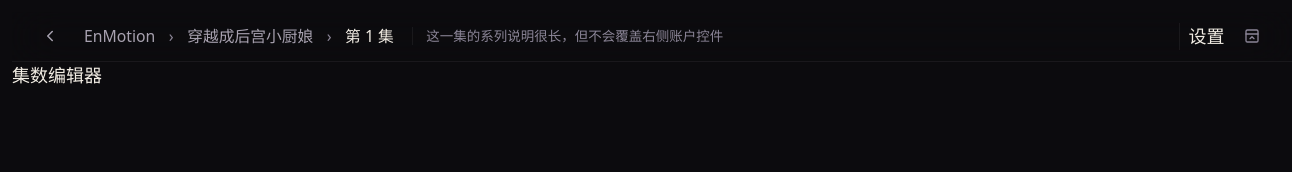
Scenario: AuthenticatedViewport › provides the same collapsible editor navigation in desktop mode
The image size is (1292, 172).
Expected: the link "穿越成后宫小厨娘" is shown, [180,20,320,52]
What coordinates should you click on to do the following:
click the button named "收起工作区导航"
I would click on:
 (1252, 36)
Its box is [1234,18,1270,54].
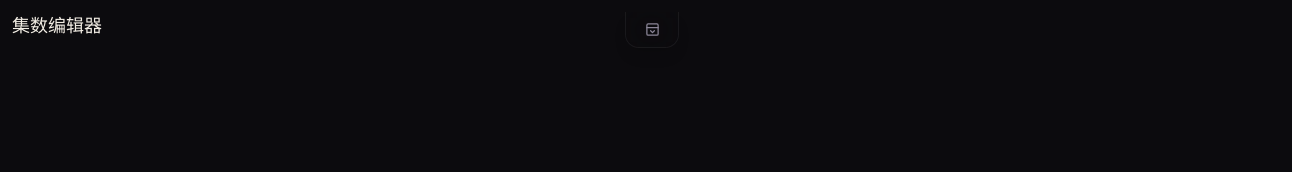
Expected: the button named "展开工作区导航" is shown, [625,12,679,48]
